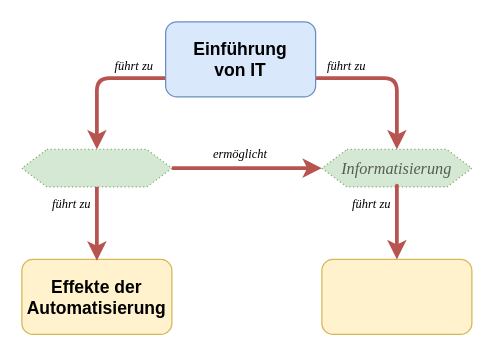
The diagram is 494 pixels wide and 356 high, and some of its shapes have lost their labels. The shapes that lost their labels are listed below. From the top down, each one's box as (x1, y1, x2, y2) in pixels, then its label:
(21, 148, 172, 187): Automatisierung
(321, 258, 472, 334): Effekte der Informatisierung
